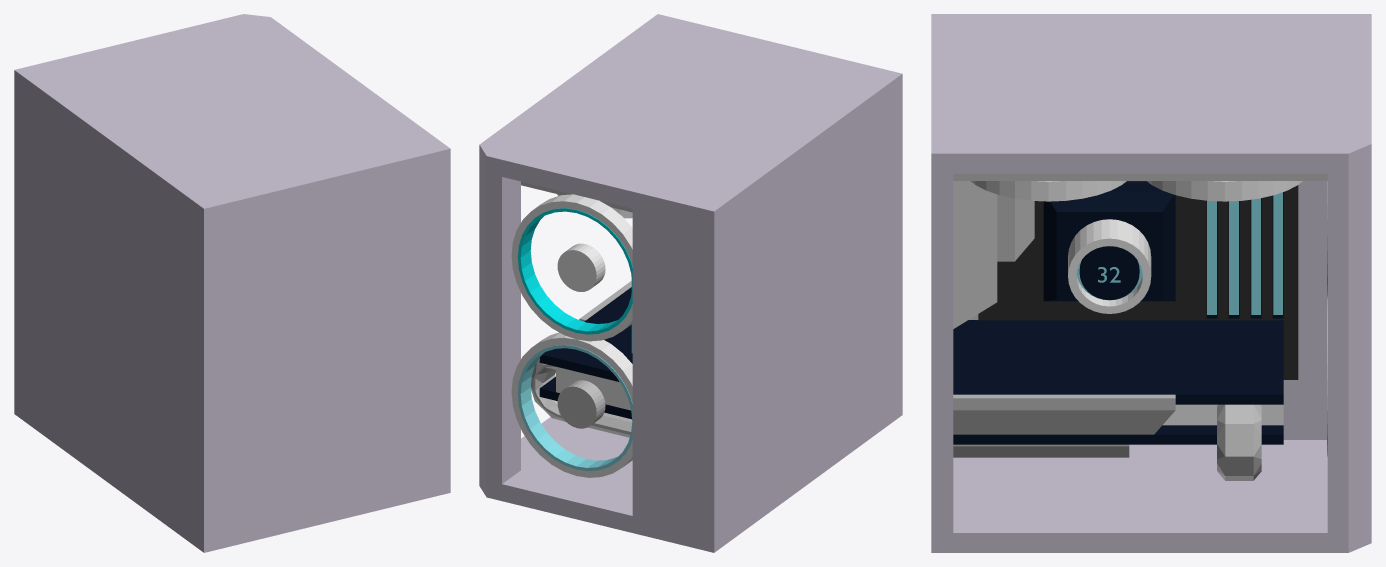
File: game.glb
3 views of the same model, side by side, from view 1: azimuth 30°, elevation 25°; view 2: azimuth 150°, elevation 25°; view 3: azimuth 270°, elevation 25° (orthographic). The views are drawn at different scales.
Visible parts, largest first — view 1: Cube, Cube.003, Cube.008, Cube.001; view 2: Cube, Cube.008, Cube.002, Cube.001, Cylinder, Cylinder.006, Cylinder.001, Cylinder.008, Cube.004, Cylinder.007, Cylinder.002, Cube.009 (+2 smaller); view 3: Cube.008, Cube.001, Cube, Cube.004, Plane, Cube.002, Cube.020, Cube.010, Cube.003, Cube.013, Cube.011, Cube.006 (+12 smaller).
Boxes of the visible parts, x1,y1,x2,y2 form: Cube: [14, 50, 286, 552]; Cube.003: [286, 166, 450, 515]; Cube.008: [97, 14, 450, 205]; Cube.001: [286, 475, 450, 532]; Cube: [632, 54, 902, 552]; Cube.008: [479, 14, 820, 208]; Cube.002: [479, 162, 520, 483]; Cube.001: [479, 417, 632, 532]; Cylinder: [511, 194, 632, 341]; Cylinder.006: [511, 332, 632, 477]; Cylinder.001: [517, 208, 632, 334]; Cylinder.008: [517, 344, 632, 470]; Cube.004: [539, 287, 632, 381]; Cylinder.007: [557, 380, 605, 428]; Cylinder.002: [557, 243, 605, 291]; Cube.009: [530, 358, 632, 437]; Cube.008: [931, 60, 1371, 173]; Cube.001: [931, 440, 1371, 552]; Cube: [931, 14, 1371, 439]; Cube.004: [953, 320, 1283, 404]; Plane: [978, 181, 1298, 379]; Cube.002: [1327, 164, 1371, 532]; Cube.020: [953, 394, 1175, 434]; Cube.010: [1043, 182, 1175, 301]; Cube.003: [931, 173, 953, 532]; Cube.013: [953, 181, 997, 328]; Cube.011: [1068, 219, 1151, 313]; Cube.006: [953, 425, 1283, 444].
Size of the model in its own units: 1.5 by 2 by 2.
